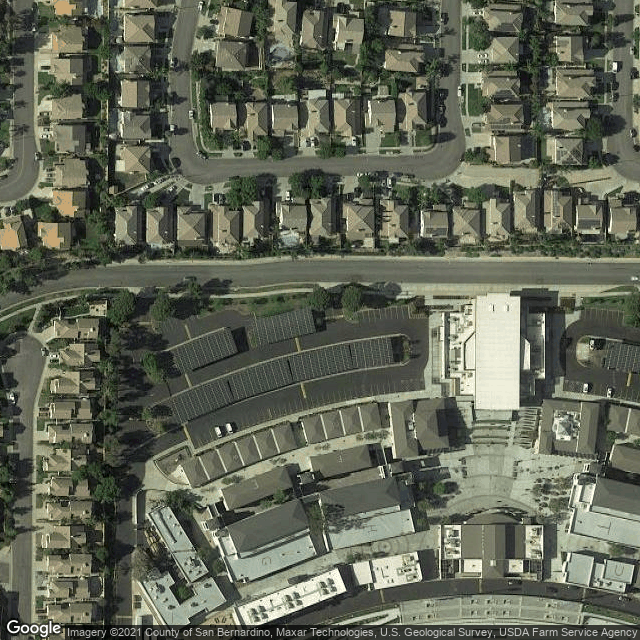carport-fixed: (293, 341, 357, 386), (254, 305, 316, 350), (178, 328, 240, 373), (179, 379, 236, 427), (234, 353, 291, 401), (352, 333, 395, 373), (607, 341, 640, 379)
